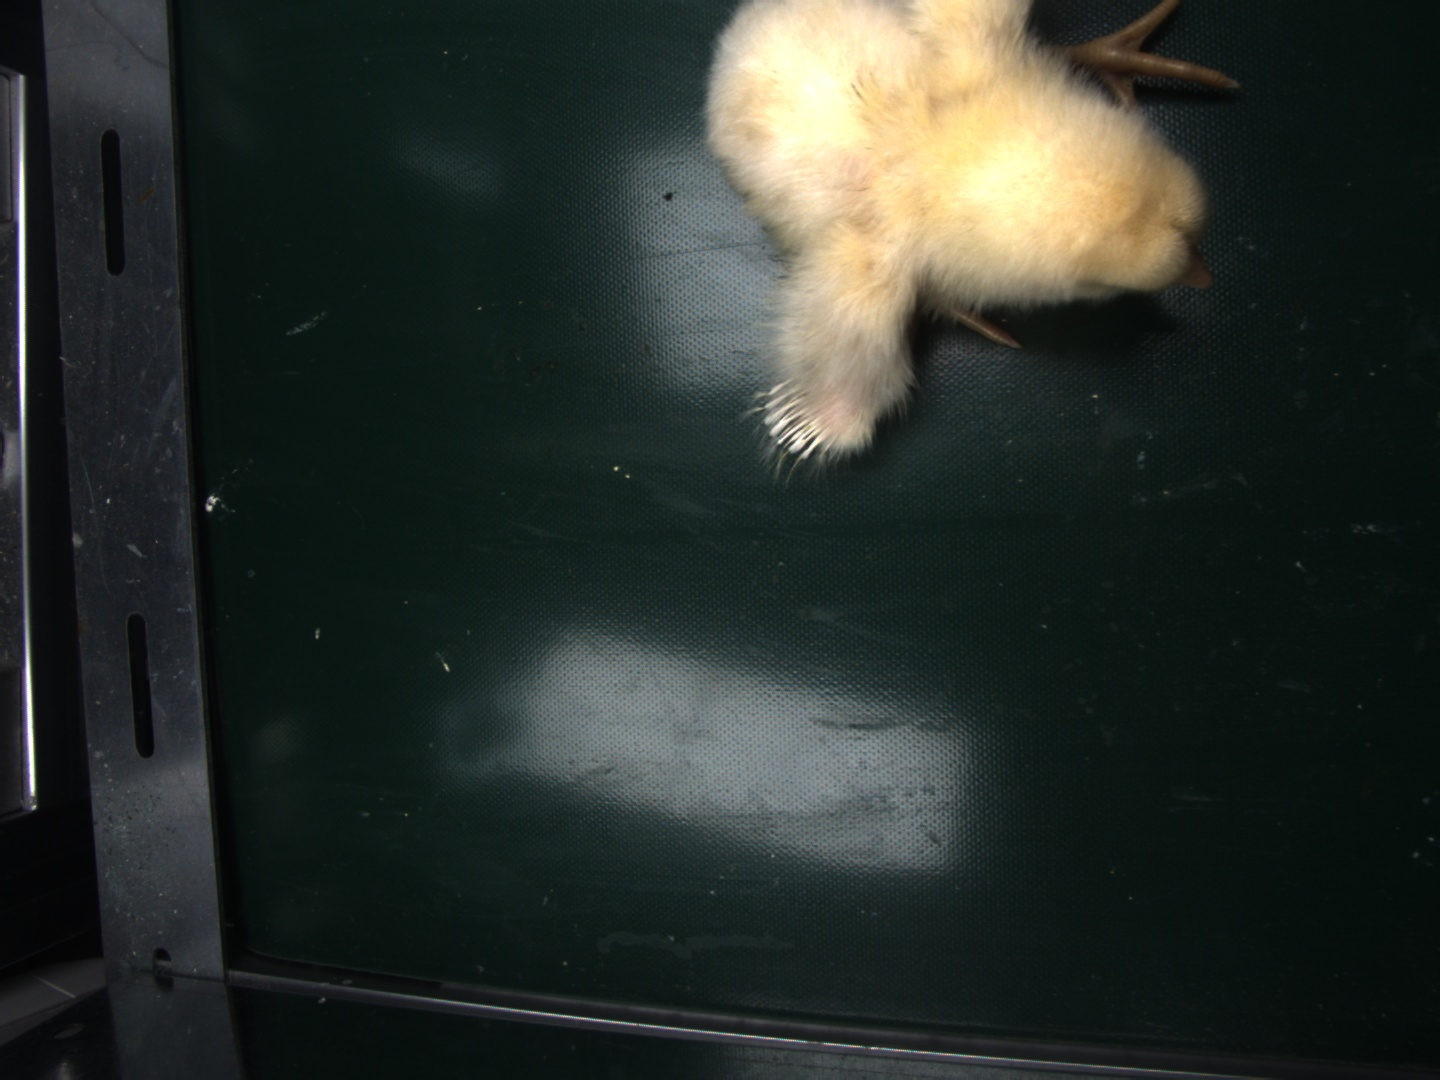male: (760, 376, 836, 459)
